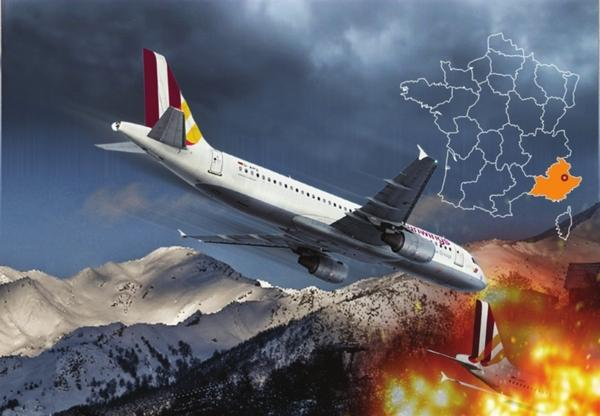airplane: (94, 46, 494, 292)
